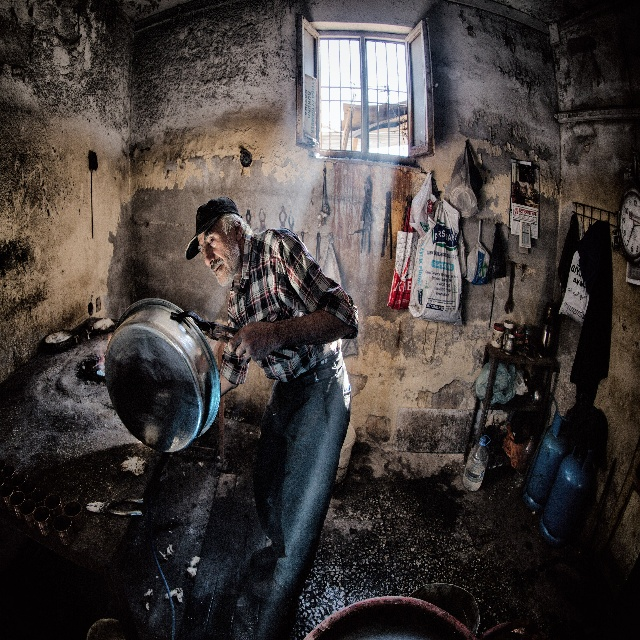Guantes: (359, 177, 376, 253), (84, 499, 144, 519), (379, 192, 394, 259), (504, 261, 518, 314), (313, 229, 322, 268), (401, 198, 412, 229), (277, 205, 287, 227), (257, 207, 267, 226), (244, 207, 252, 229), (288, 216, 294, 228), (300, 233, 306, 243)
Sin_guantes: (226, 323, 278, 361)
